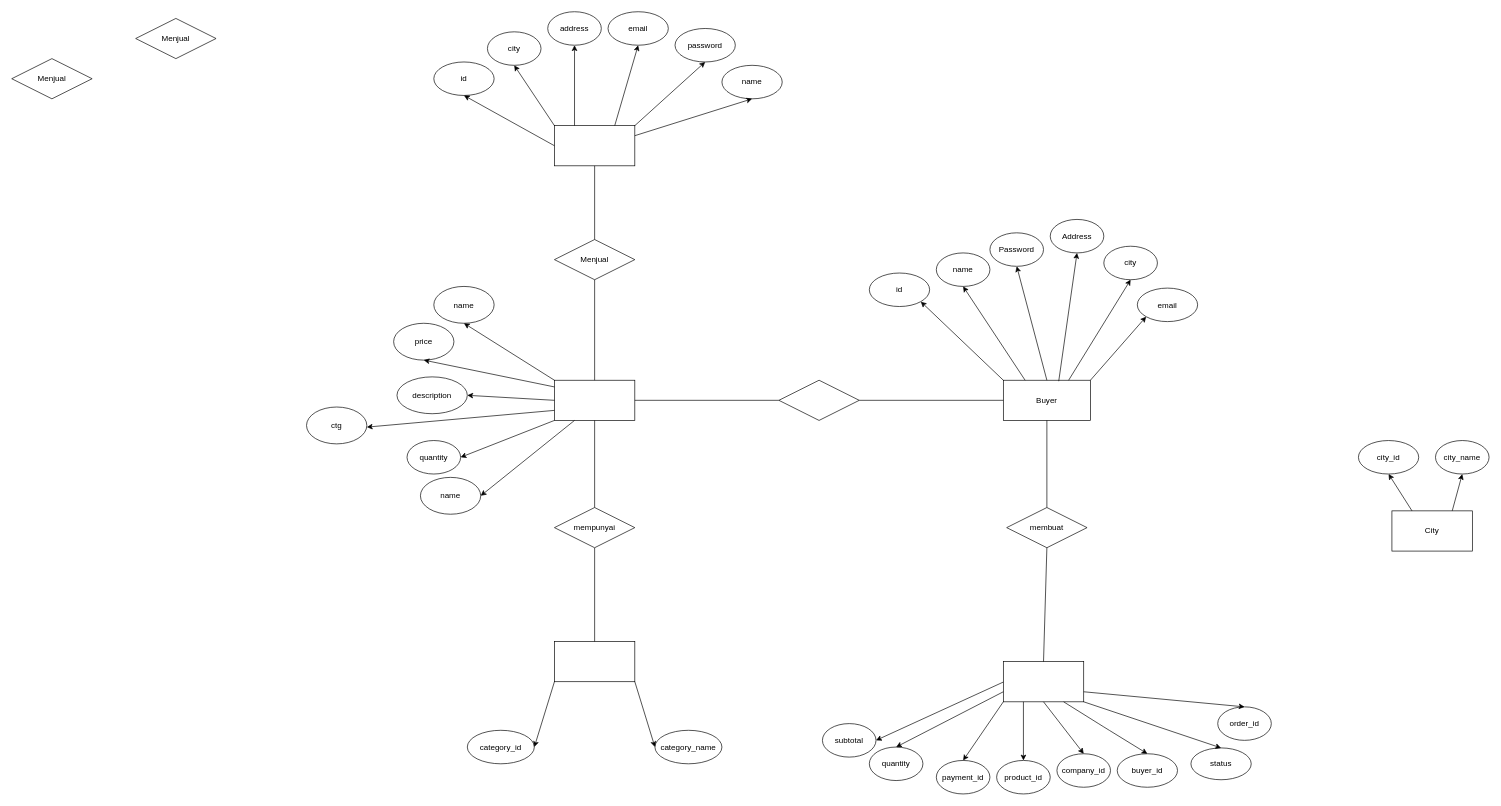
This 1501x806 diagram has some shape labels left out. Here are the shapes that lost their labels. From the top down, the centre of each, then its label:
At (x=594, y=145): "Craftsman".
At (x=594, y=400): "Products".
At (x=818, y=400): "dibeli".
At (x=594, y=661): "Categories".
At (x=1043, y=681): "Order".
